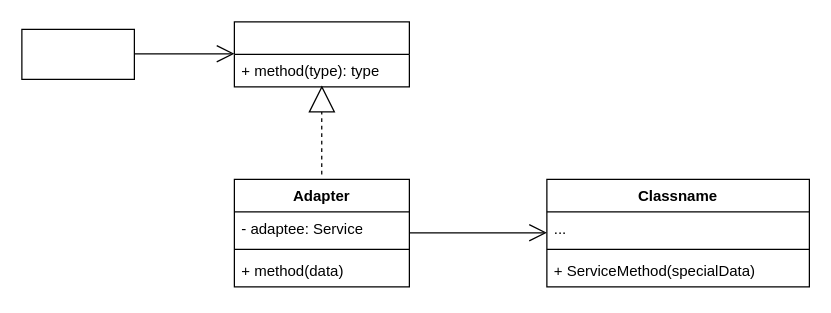
The diagram is 831 pixels wide and 313 high, and some of its shapes have lost their labels. The box of each missing label's shape, as (x1, y1, x2, y2) in pixels:
Client interface: (233, 21, 409, 87)
Object: (21, 28, 134, 79)
